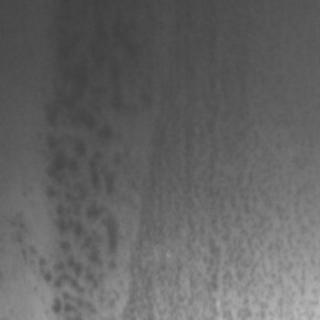pitted_surface: (135, 3, 299, 310), (32, 2, 146, 312)
